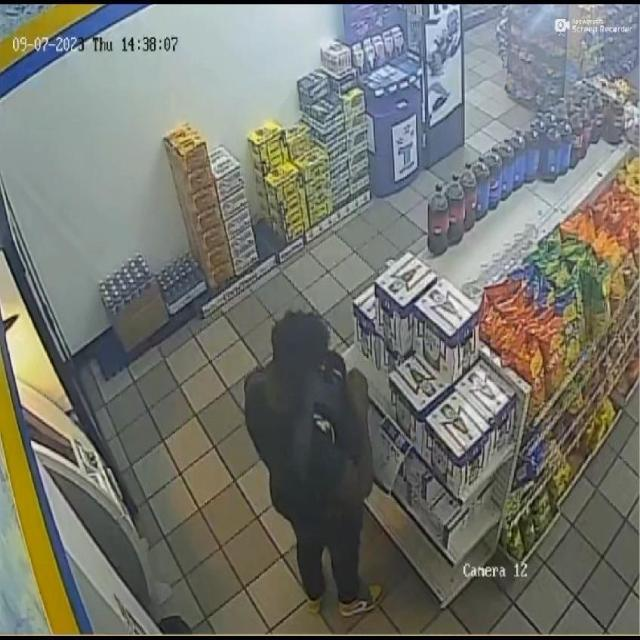Shoplifting: (232, 278, 417, 640)
